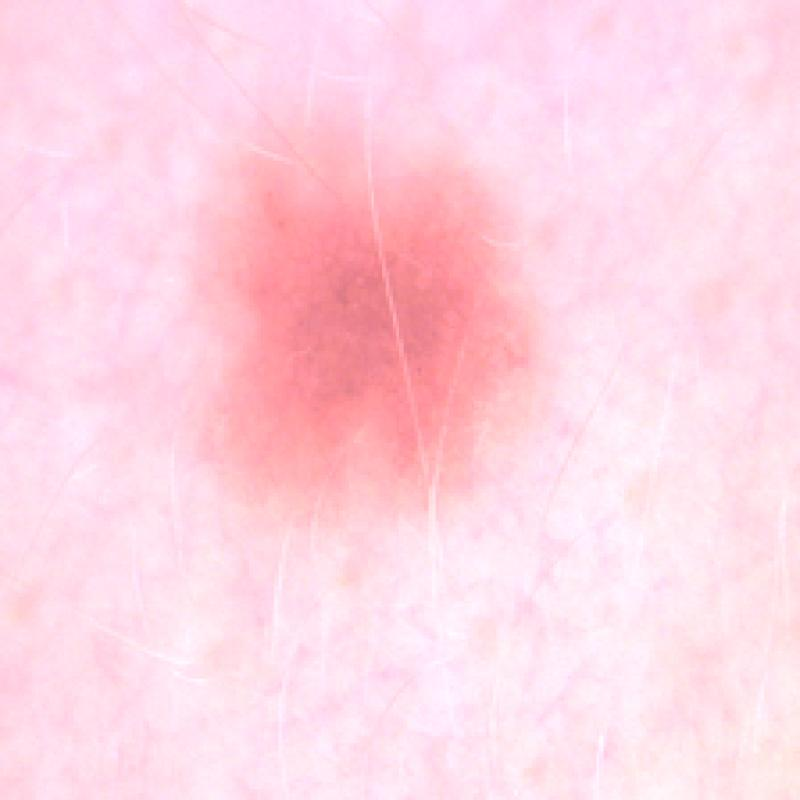benign: (191, 127, 543, 531), (119, 617, 121, 618)
